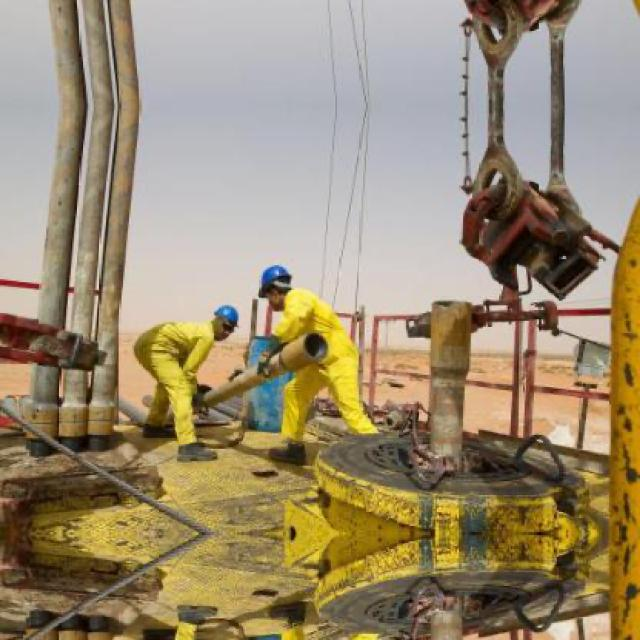con casco: (248, 249, 330, 315)
